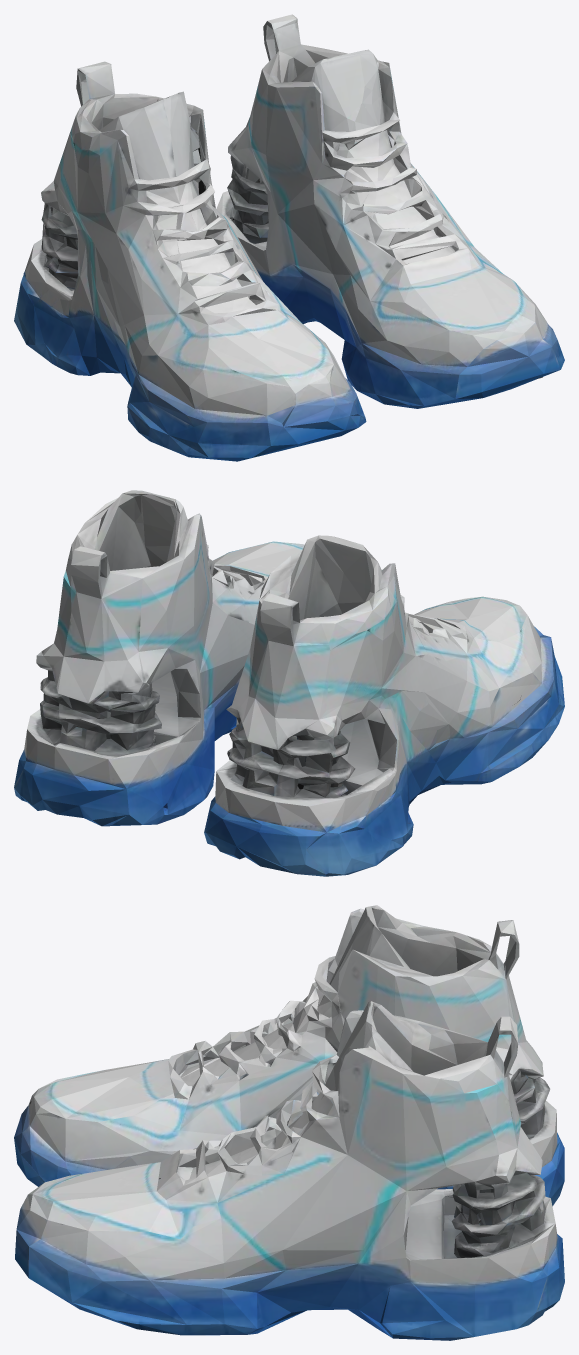
File: skyline-shoe.glb
The picture shows the model from 3 angles, top to bottom: view 1: azimuth 30°, elevation 25°; view 2: azimuth 150°, elevation 25°; view 3: azimuth 270°, elevation 25°; orthographic projection. The views are drawn at different scales.
Parts seen in each view (by area): view 1: geometry_0; view 2: geometry_0; view 3: geometry_0.
Part boxes in pixels (x1=…): geometry_0: x1=14, y1=14, x2=564, y2=461; geometry_0: x1=14, y1=490, x2=564, y2=876; geometry_0: x1=14, y1=905, x2=564, y2=1340.
Size of the model in its own units: 0.8605 by 0.5784 by 0.9919.
1 material, 1 textured.
